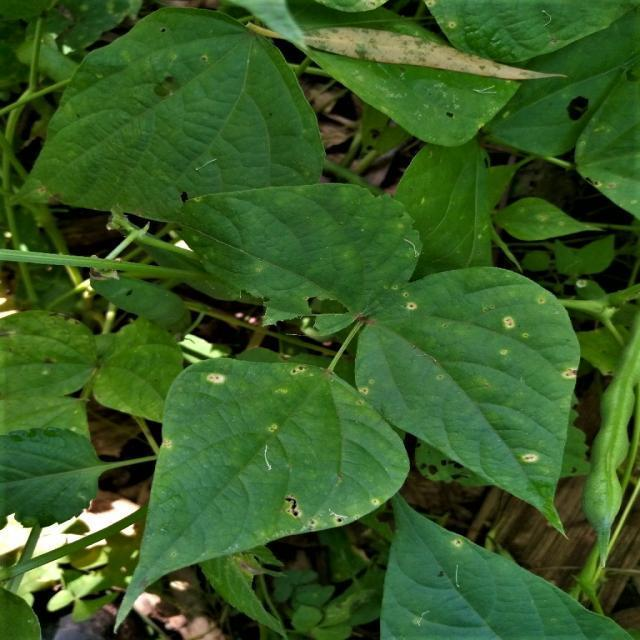embun tepung: (181, 213, 441, 402)
